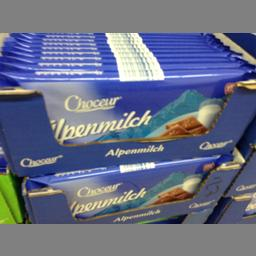chocolate: (0, 71, 254, 143), (20, 154, 230, 220)
